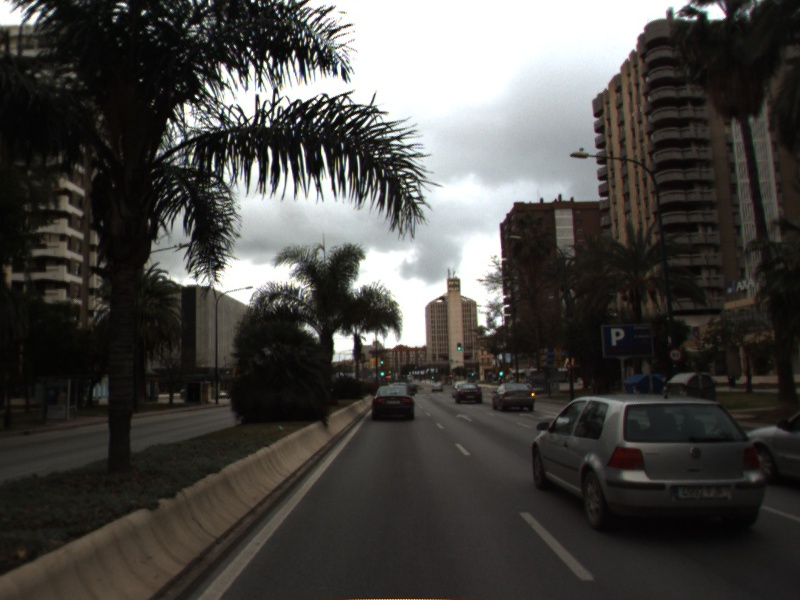STRAIGHT: (454, 412, 474, 423)
STRAIGHT_RIGHT: (518, 411, 558, 421)
